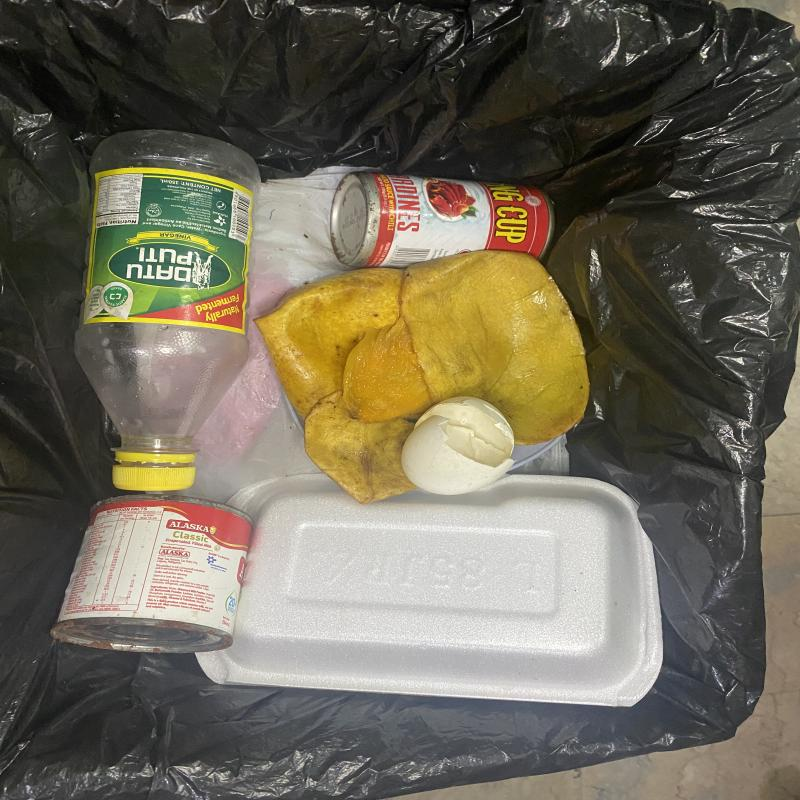aluminum: (49, 494, 253, 654), (330, 171, 555, 270)
egg shell: (401, 396, 515, 496)
fruit peels: (401, 250, 590, 446), (255, 269, 406, 419), (304, 390, 421, 505), (342, 322, 431, 423)
plastic bottle: (75, 130, 261, 494)
styrofoam containers: (194, 474, 663, 708)
